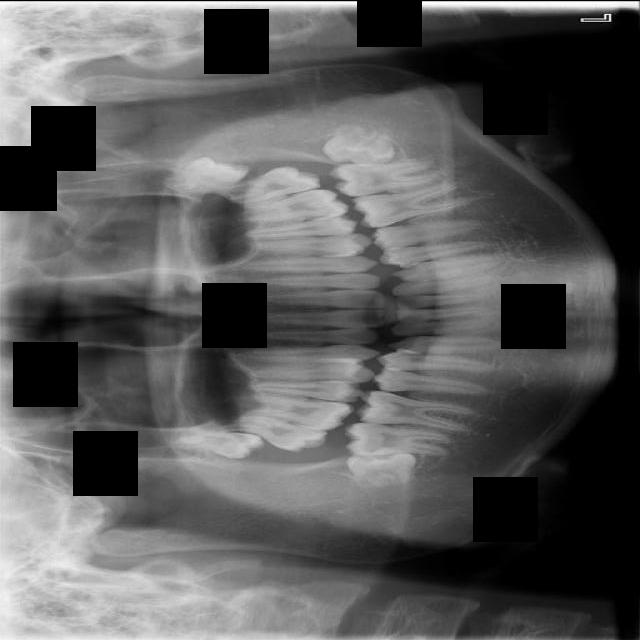3M ESPE Implant: (174, 425, 266, 461)
73: (610, 12, 624, 23)
BioHorizons Implant: (208, 157, 322, 213)
BioLife Implant: (160, 150, 251, 192)
Biomet 3i Implant: (322, 122, 397, 168)
Blue Sky Bio Implant: (328, 158, 441, 197)
Caries: (226, 406, 329, 459)
Implant: (343, 420, 455, 460)
Keystone Dental Implant: (344, 444, 418, 492)
